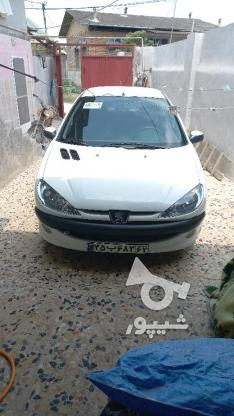car: (86, 242, 153, 257)
